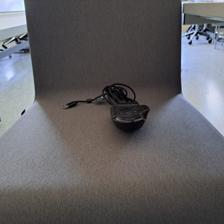mouse: (109, 104, 150, 134)
